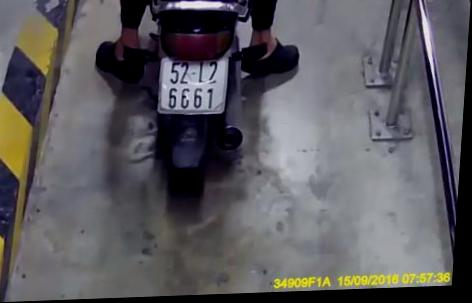License_Plate: (152, 51, 234, 120)
